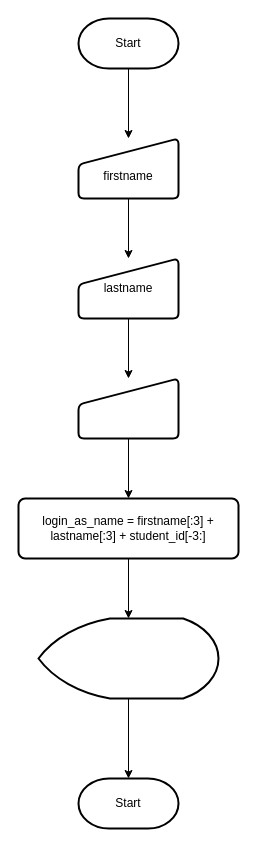
This 256x846 diagram has some shape labels left out. The shapes that lost their labels are listed below. From the top down, each one's centre as x and y in pixels, then its label:
pixel 128 408: student_id
pixel 128 658: Your system login name is\n%s" % login_as_name
